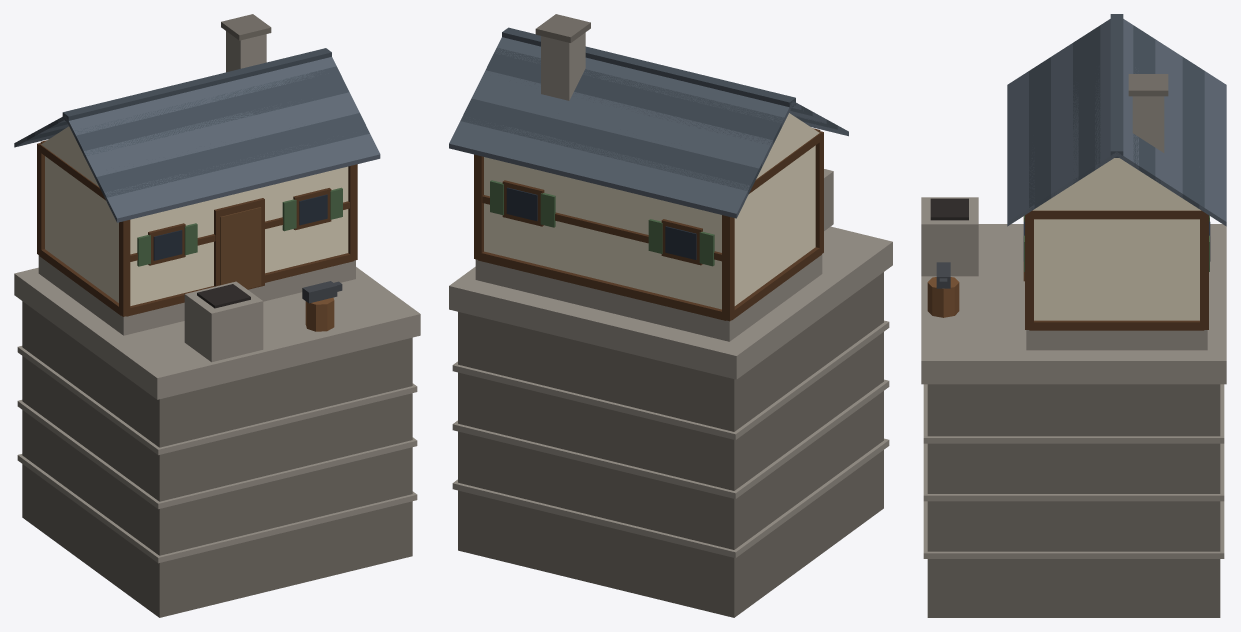
The model's file is blacksmith.glb.
The picture shows the model from 3 angles, left to right: view 1: azimuth 30°, elevation 25°; view 2: azimuth 150°, elevation 25°; view 3: azimuth 270°, elevation 25°; orthographic projection. The views are drawn at different scales.
Visible parts, largest first — view 1: blacksmith; view 2: blacksmith; view 3: blacksmith.
Boxes of the visible parts, x1,y1,x2,y2 form: blacksmith: (14, 14, 420, 617); blacksmith: (449, 14, 892, 617); blacksmith: (921, 14, 1226, 617).
Size of the model in its own units: 5.1 by 8.72 by 4.8.
